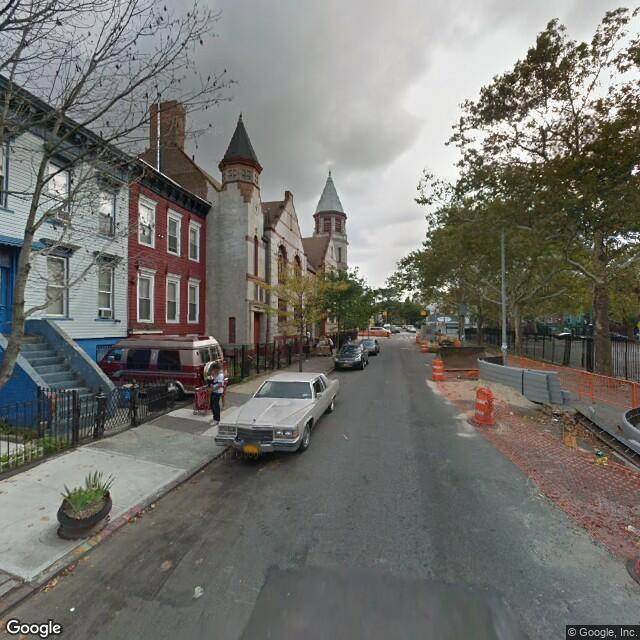litter: (190, 584, 215, 610), (584, 447, 610, 471)
